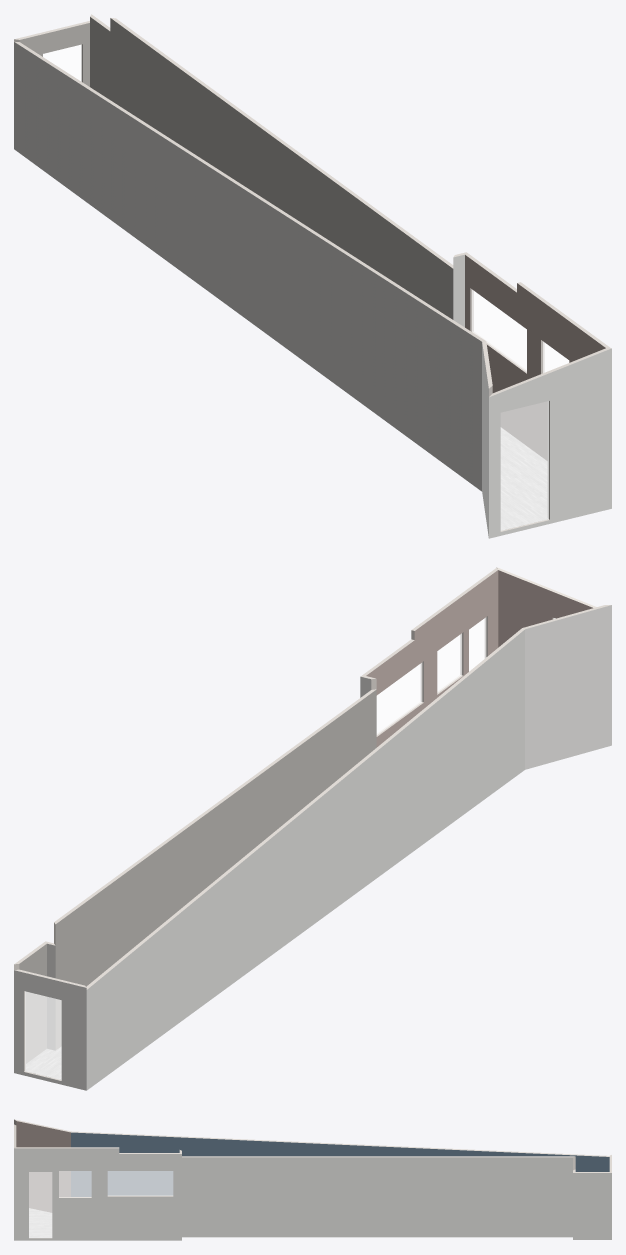
Rendered from CorridorModel.glb.
3 views of the same model, one above another, from view 1: azimuth 30°, elevation 25°; view 2: azimuth 150°, elevation 25°; view 3: azimuth 270°, elevation 25° (orthographic). The views are drawn at different scales.
Parts seen in each view (by area): view 1: wall_4, wall_21, wall_3, wall_9, door_1, door_4, floor_Other, window_1, window_3, wall_18, wall_11, wall_19 (+6 smaller); view 2: wall_4, wall_21, wall_2, wall_9, wall_1, wall_15, door_2, door_5, wall_18, wall_19, window_1, window_3 (+8 smaller); view 3: wall_6, wall_0, wall_17, wall_5, wall_13, window_1, window_3, door_0, door_3, wall_18, window_0, window_2 (+3 smaller).
Boxes of the visible parts, bbox=[...] form: wall_4: bbox=[14, 42, 481, 491]; wall_21: bbox=[110, 18, 453, 319]; wall_3: bbox=[489, 348, 611, 538]; wall_9: bbox=[465, 255, 605, 460]; door_1: bbox=[501, 401, 548, 530]; door_4: bbox=[501, 401, 548, 530]; floor_Other: bbox=[501, 427, 547, 530]; window_1: bbox=[472, 290, 526, 371]; window_3: bbox=[472, 290, 526, 371]; wall_18: bbox=[14, 41, 485, 341]; wall_11: bbox=[19, 23, 89, 86]; wall_19: bbox=[90, 17, 110, 99]; wall_4: bbox=[86, 630, 524, 1090]; wall_21: bbox=[55, 689, 376, 1049]; wall_2: bbox=[525, 605, 611, 769]; wall_9: bbox=[366, 570, 498, 747]; wall_1: bbox=[14, 970, 86, 1090]; wall_15: bbox=[498, 570, 592, 647]; door_2: bbox=[25, 991, 61, 1079]; door_5: bbox=[25, 991, 61, 1079]; wall_18: bbox=[86, 628, 524, 989]; wall_19: bbox=[19, 944, 46, 1063]; window_1: bbox=[377, 663, 421, 734]; window_3: bbox=[377, 663, 421, 734]; wall_6: bbox=[182, 1157, 572, 1237]; wall_0: bbox=[14, 1148, 181, 1240]; wall_17: bbox=[71, 1132, 609, 1196]; wall_5: bbox=[573, 1173, 611, 1239]; wall_13: bbox=[16, 1121, 70, 1212]; window_1: bbox=[108, 1171, 172, 1195]; window_3: bbox=[108, 1171, 172, 1195]; door_0: bbox=[29, 1172, 51, 1237]; door_3: bbox=[29, 1172, 51, 1237]; wall_18: bbox=[71, 1131, 609, 1156]; window_0: bbox=[59, 1171, 91, 1196]; window_2: bbox=[59, 1171, 91, 1196].
Bounding box in the file's own units: 3.33 × 4.15 × 24.29.
